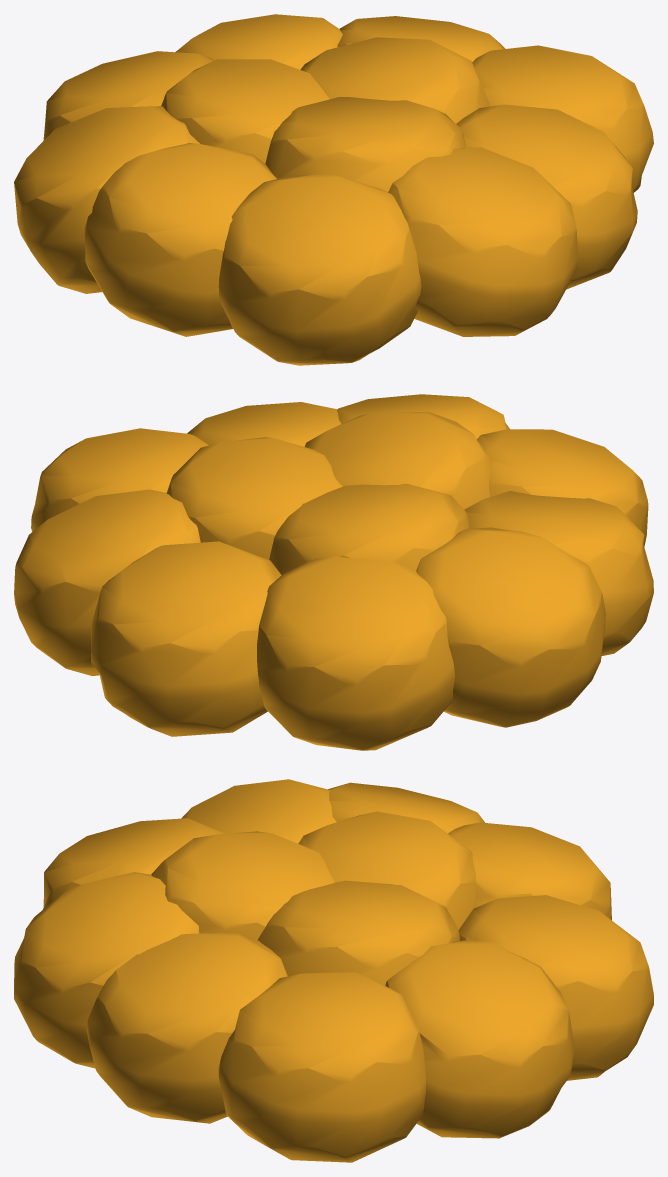
3 views of the same model, one above another, from view 1: azimuth 30°, elevation 25°; view 2: azimuth 150°, elevation 25°; view 3: azimuth 270°, elevation 25° (orthographic).
Visible parts, largest first — view 1: Flower_017_Base_Material_0; view 2: Flower_017_Base_Material_0; view 3: Flower_017_Base_Material_0.
Boxes of the visible parts, left/top/right/bottom form: Flower_017_Base_Material_0: left=14, top=14, right=653, bottom=365; Flower_017_Base_Material_0: left=14, top=394, right=653, bottom=750; Flower_017_Base_Material_0: left=14, top=779, right=653, bottom=1162.
Bounding box in the file's own units: 0.1581 × 0.0477 × 0.1521.
1 material, 1 textured.
